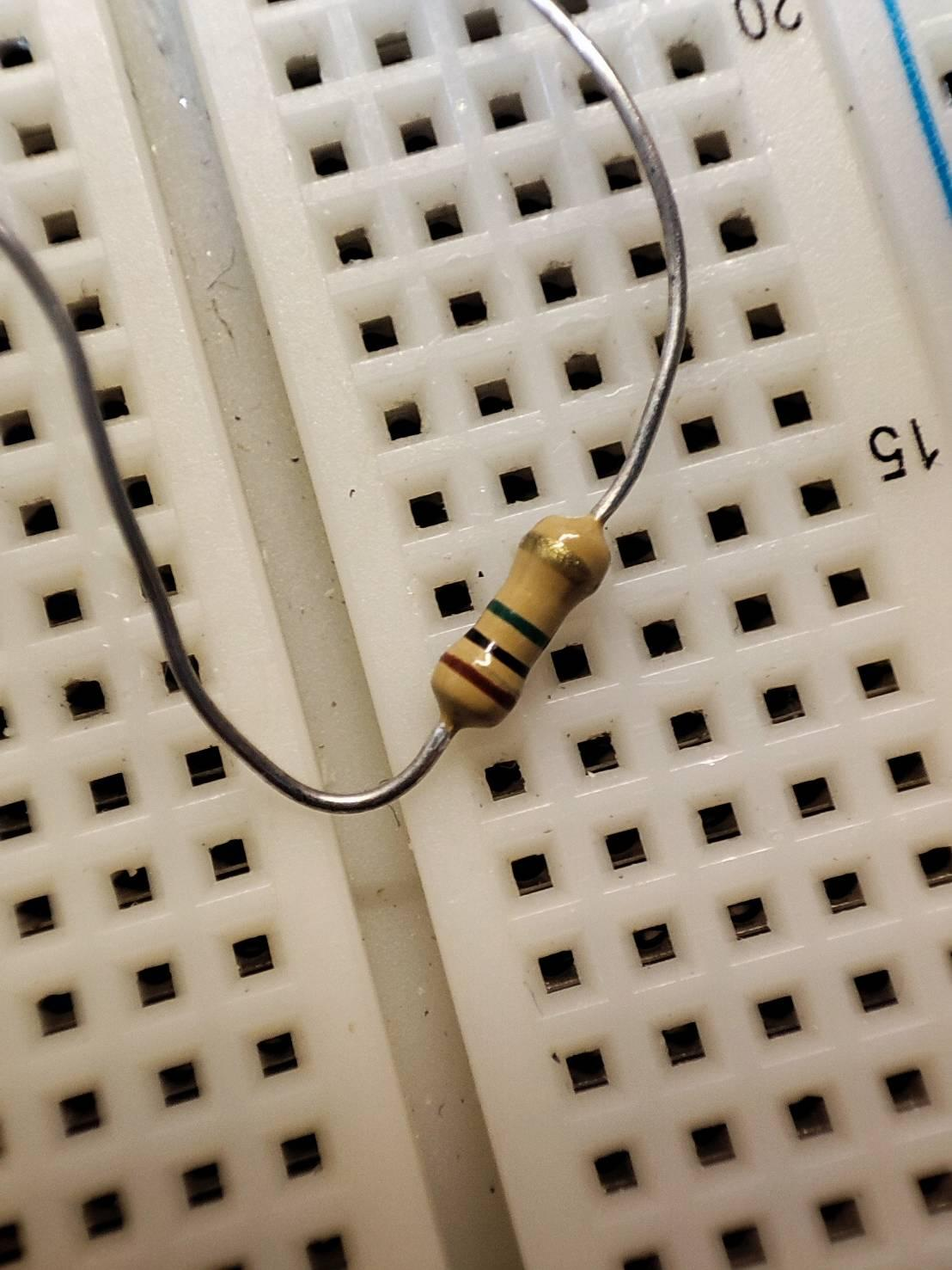resistor: (435, 506, 612, 738)
